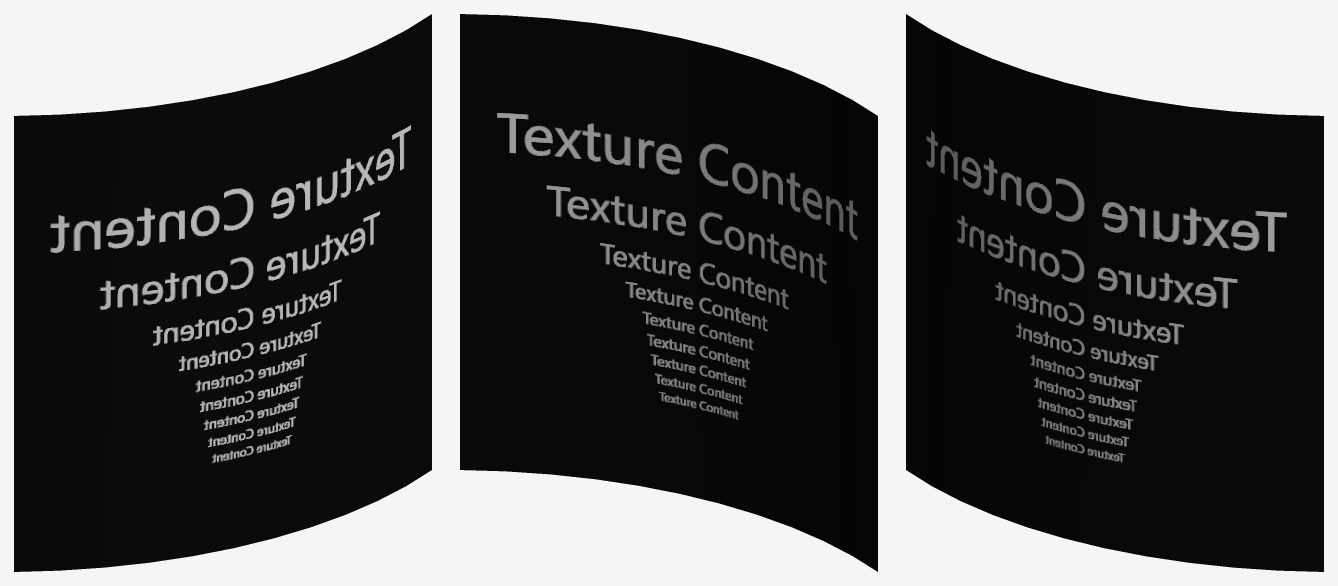
Rendered from CylinderLayer.fbx.
3 renders of one model, left to right at view 1: azimuth 30°, elevation 25°; view 2: azimuth 150°, elevation 25°; view 3: azimuth 330°, elevation 25°, orthographic.
Visible parts, largest first — view 1: CylinderLayer; view 2: CylinderLayer; view 3: CylinderLayer.
Part boxes in pixels (x1,y1,x2,y2): CylinderLayer: (14, 14, 431, 571); CylinderLayer: (460, 14, 877, 571); CylinderLayer: (906, 14, 1323, 571).
Bounding box in the file's own units: 95.89 × 100 × 12.14.
